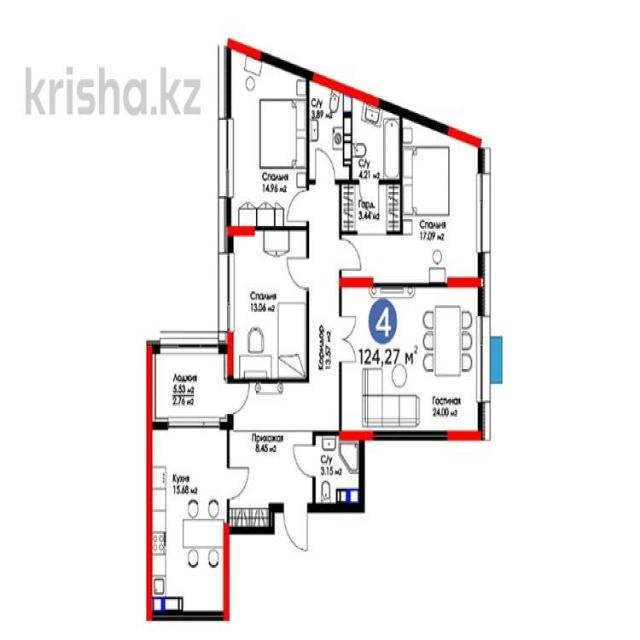balcony: (320, 435, 360, 510)
bathroom: (226, 376, 308, 537), (152, 348, 232, 424), (353, 92, 400, 186), (312, 68, 349, 186)
hallway: (306, 185, 341, 438)
kitchen: (152, 427, 227, 623)
living_room: (339, 288, 482, 438), (229, 43, 307, 236), (402, 110, 484, 289)
other: (341, 188, 403, 241)
